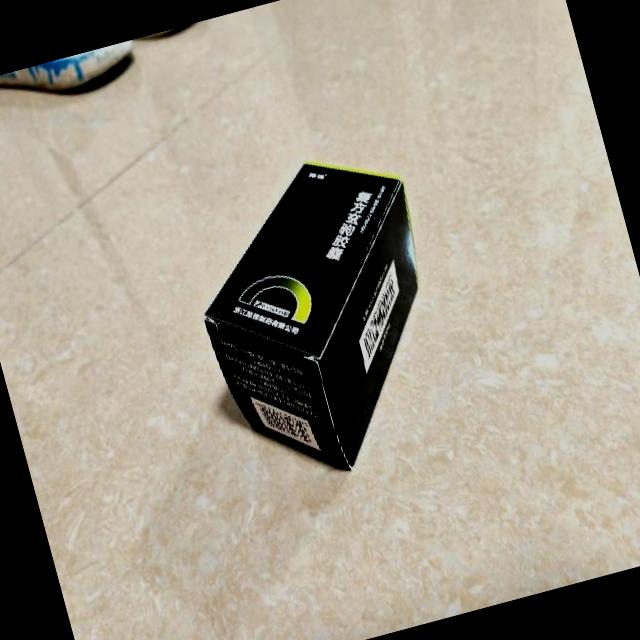box: (170, 138, 472, 493)
